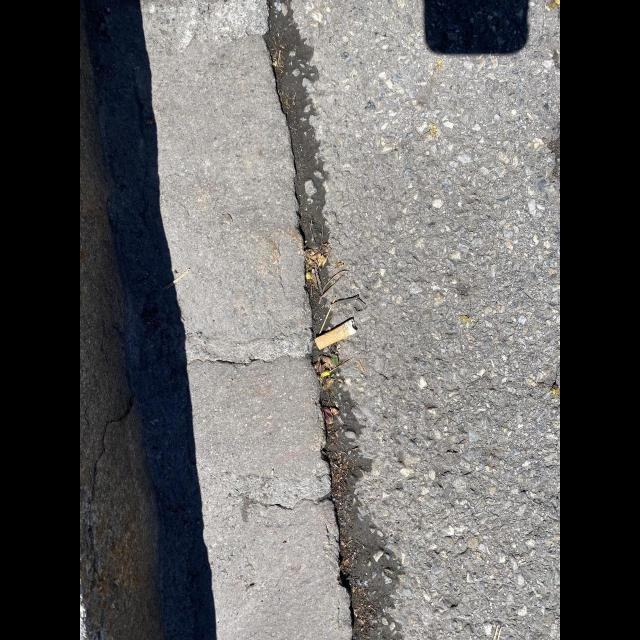cigarette: (314, 320, 357, 350)
